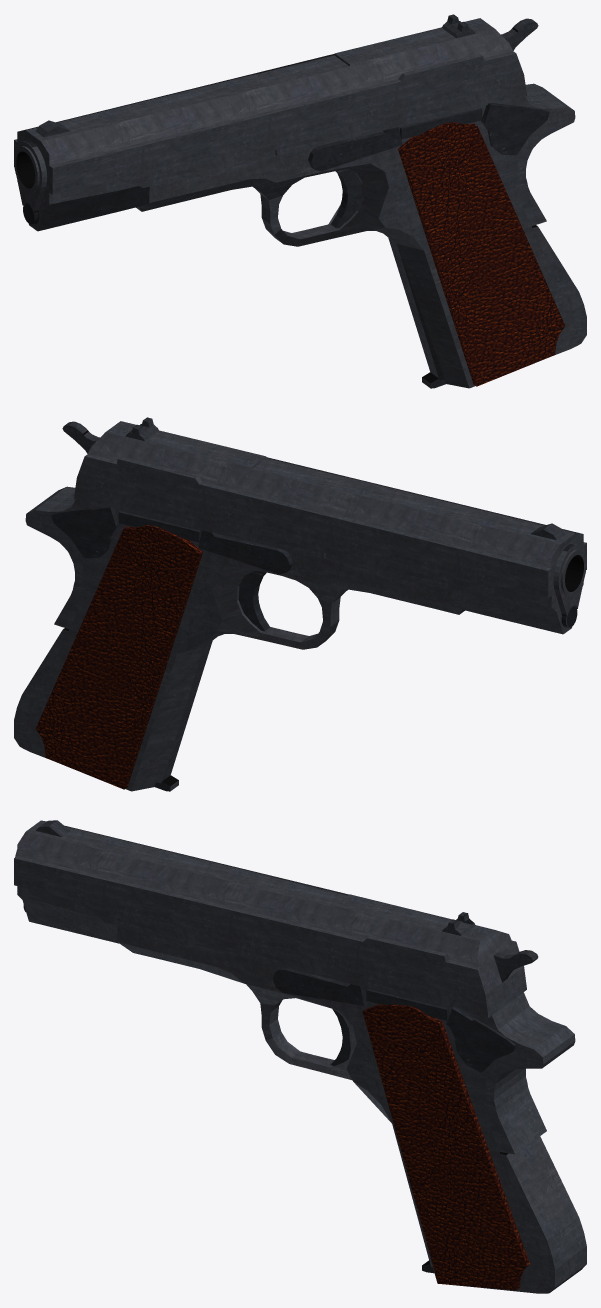
File: Colt_3d.fbx
3 renders of one model, top to bottom at view 1: azimuth 30°, elevation 25°; view 2: azimuth 150°, elevation 25°; view 3: azimuth 330°, elevation 25°, orthographic.
Parts seen in each view (by area): view 1: Cube; view 2: Cube; view 3: Cube.
Part boxes in pixels (x1,y1,x2,y2): Cube: (14,14,586,388); Cube: (14,417,586,791); Cube: (14,820,586,1293).
Bounding box in the file's own units: 9.44 × 5.92 × 1.16.
